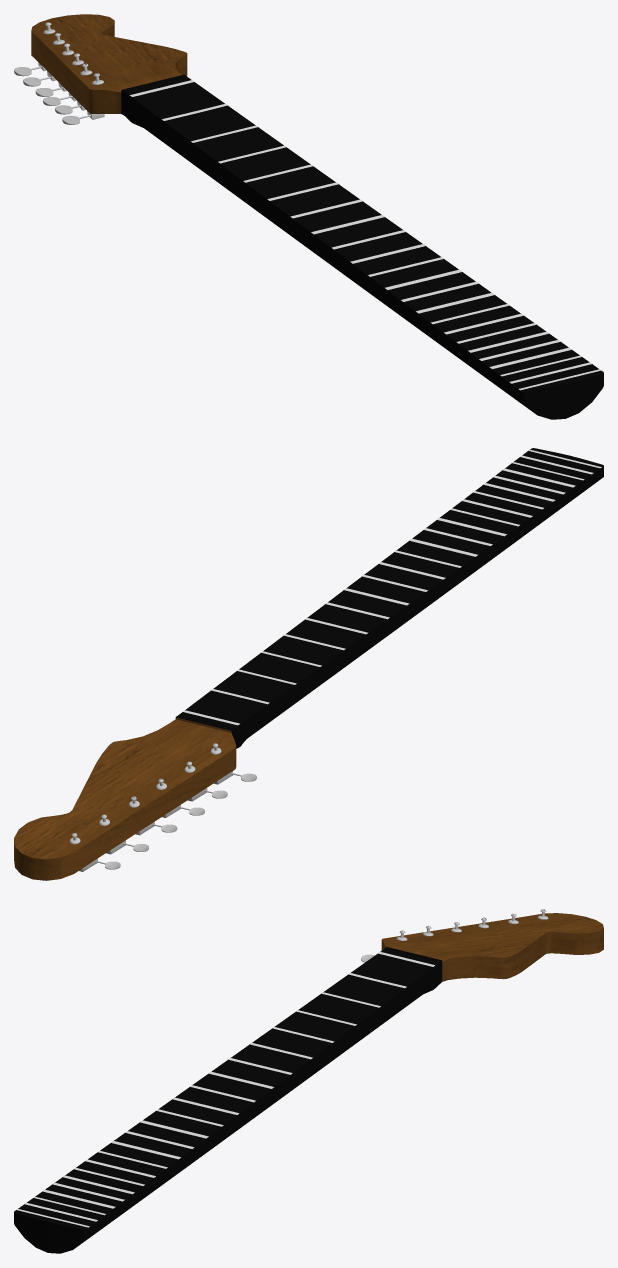
Rendered from Fender_Classic.glb.
3 views of the same model, one above another, from view 1: azimuth 30°, elevation 25°; view 2: azimuth 150°, elevation 25°; view 3: azimuth 330°, elevation 25° (orthographic). The views are drawn at different scales.
Visible parts, largest first — view 1: Fender classic; view 2: Fender classic; view 3: Fender classic.
Part boxes in pixels (bbox=[...]): Fender classic: bbox=[14, 14, 603, 419]; Fender classic: bbox=[14, 448, 603, 880]; Fender classic: bbox=[14, 909, 603, 1253].
Size of the model in its own units: 0.5198 by 0.2562 by 3.23.
5 materials, 2 textured.
